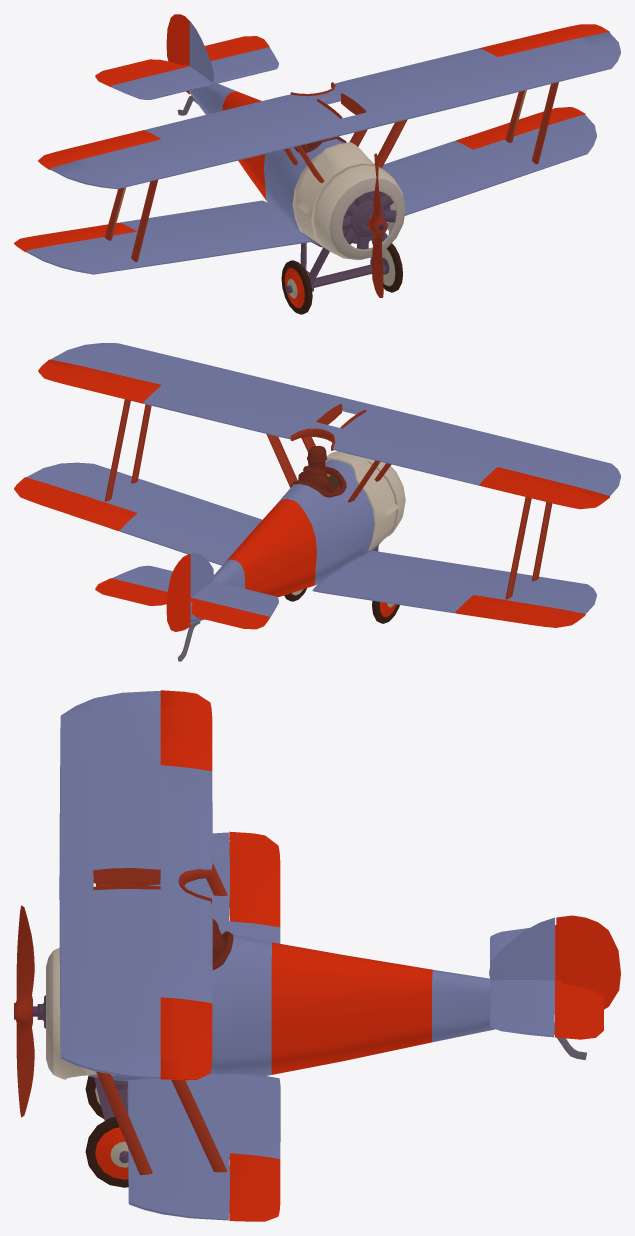
File: airplane.glb
3 views of the same model, one above another, from view 1: azimuth 30°, elevation 25°; view 2: azimuth 150°, elevation 25°; view 3: azimuth 270°, elevation 25° (orthographic). The views are drawn at different scales.
Visible parts, largest first — view 1: plane_vertex_color, prop_vertex_color; view 2: plane_vertex_color, pilot_vertex_color; view 3: plane_vertex_color, prop_vertex_color.
Boxes of the visible parts, box(x1,y1,x2,y2) form: plane_vertex_color: box(14, 14, 620, 314); prop_vertex_color: box(367, 153, 387, 297); plane_vertex_color: box(14, 343, 620, 661); pilot_vertex_color: box(298, 445, 339, 492); plane_vertex_color: box(37, 690, 620, 1221); prop_vertex_color: box(14, 905, 37, 1117).
Size of the model in its own units: 8.68 by 2.92 by 5.75.
